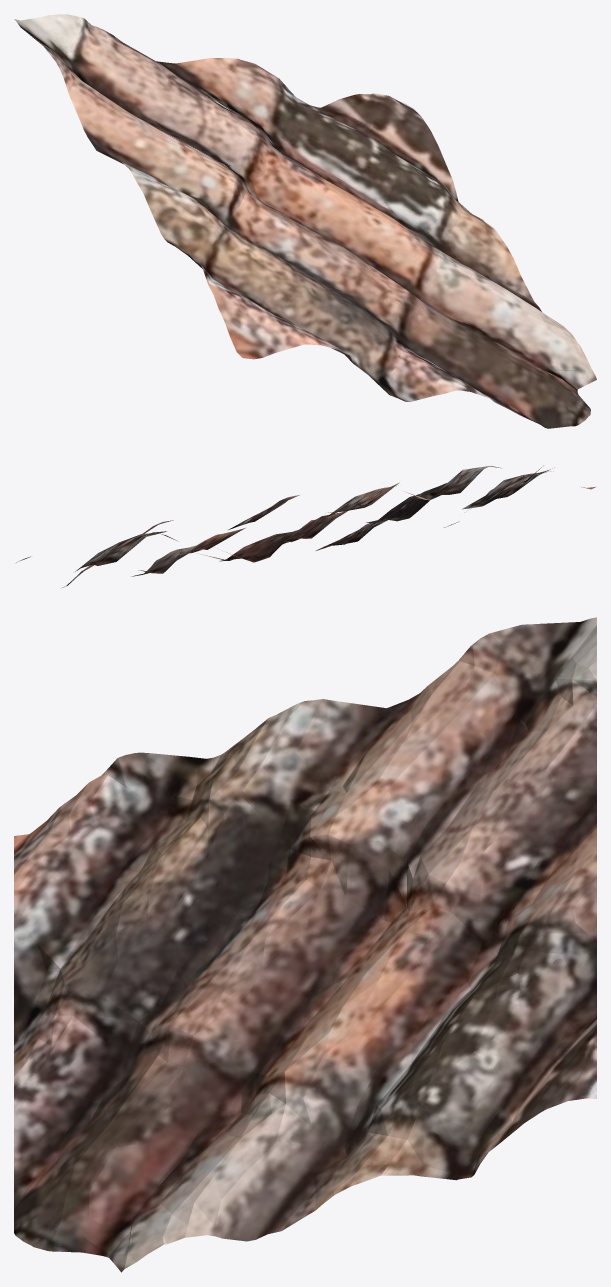
3 renders of one model, top to bottom at view 1: azimuth 30°, elevation 25°; view 2: azimuth 150°, elevation 25°; view 3: azimuth 270°, elevation 25°, orthographic. The views are drawn at different scales.
Size of the model in its own units: 0.8373 by 0.6482 by 0.8373.
Materials: 3 (3 with a texture image).
